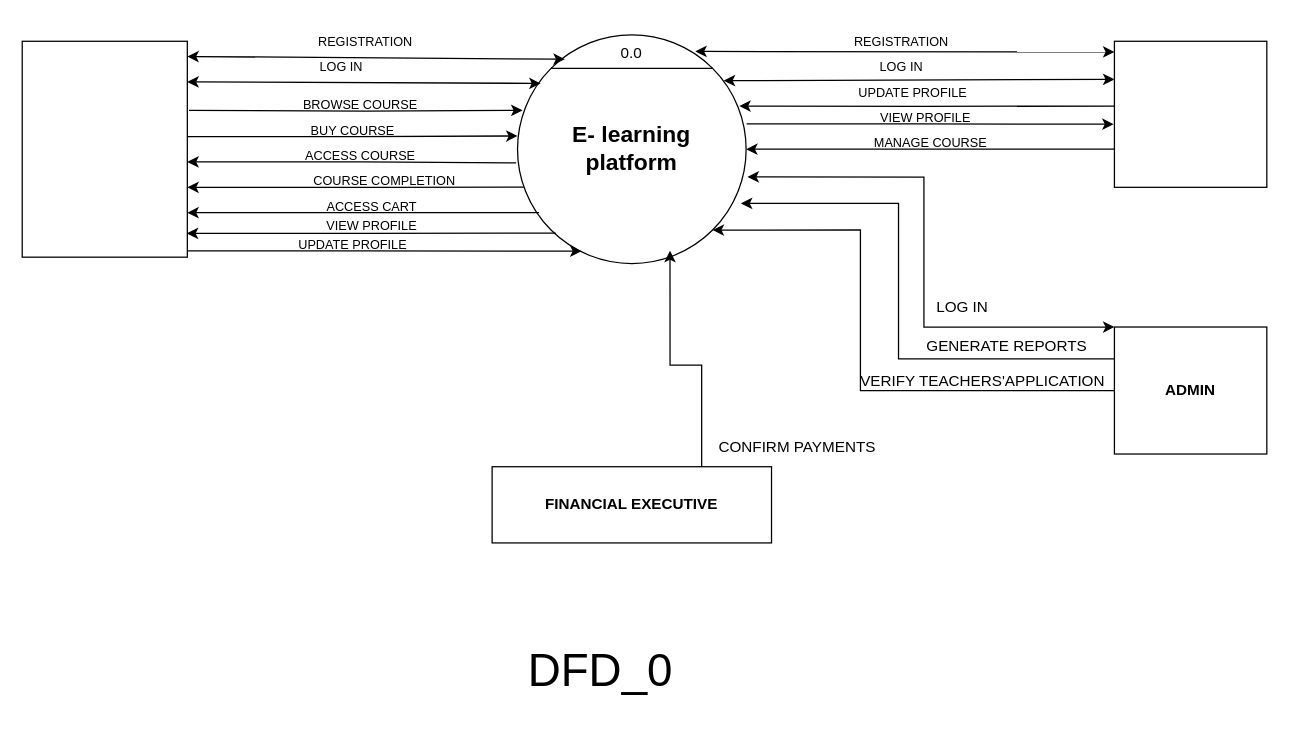
Image size: 1289x729. Some labels were removed from this diagram. Here are the shapes that lost their labels. From the top down, the centre of each, then its label:
the point at 1190,113: TEACHER
the point at 104,148: STUDENT
